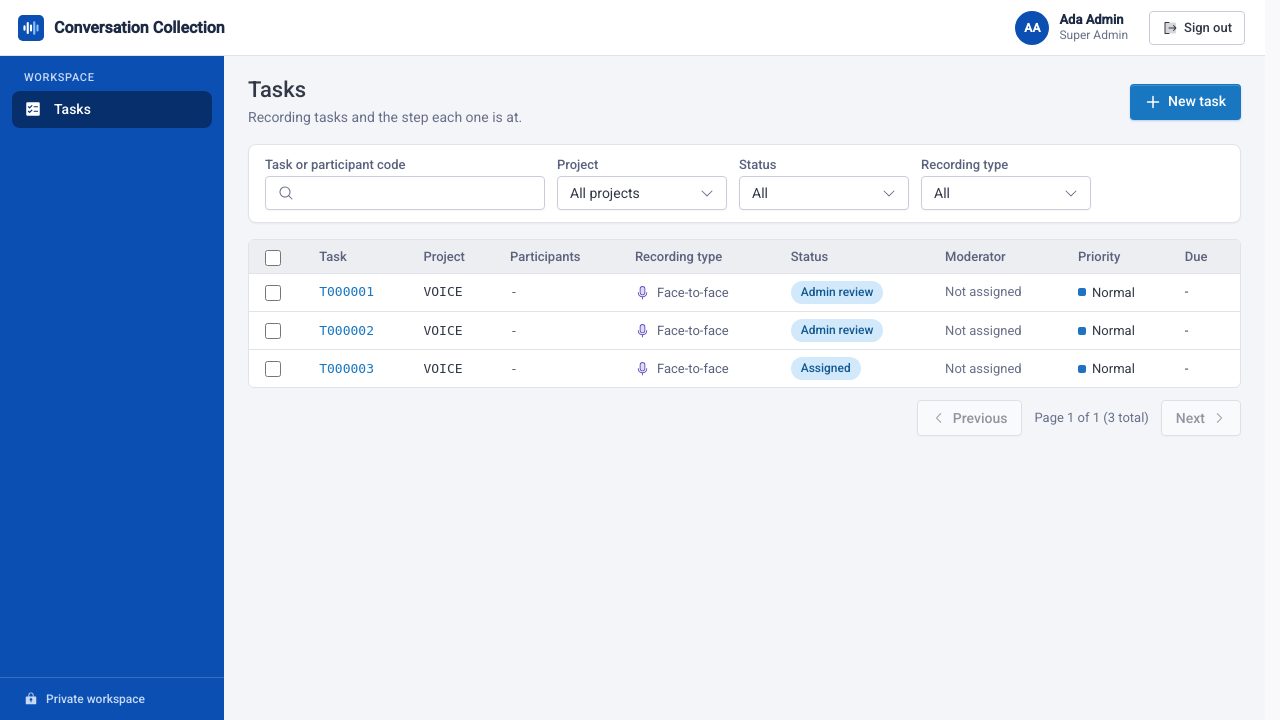
Test case: tasks › approves many tasks at once (D-093)
The width and height of the screenshot is (1280, 720).
Click the checkbox named "Select every task on this page". click: (273, 258)
box: [265,250,281,266]
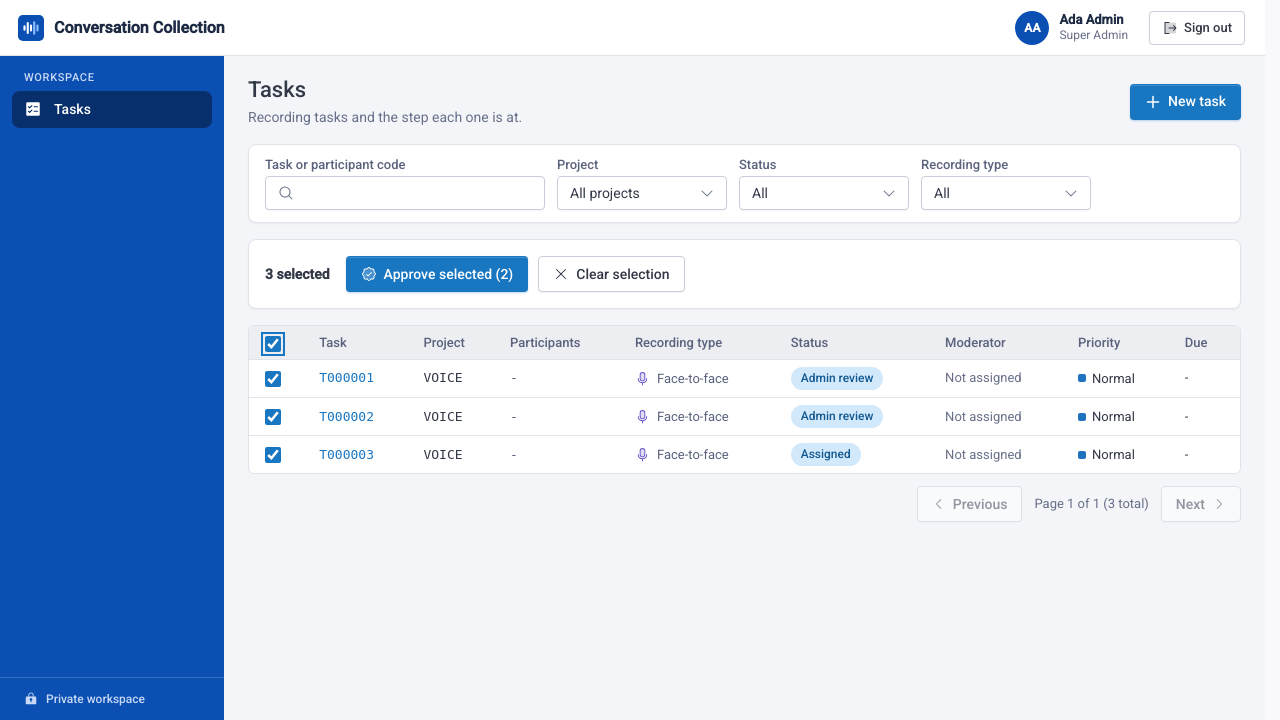
Check: the text "3 selected" is shown, box [265,264,330,285]
Click the button "Approve selected (2)". click: (437, 274)
box: [346,256,528,292]
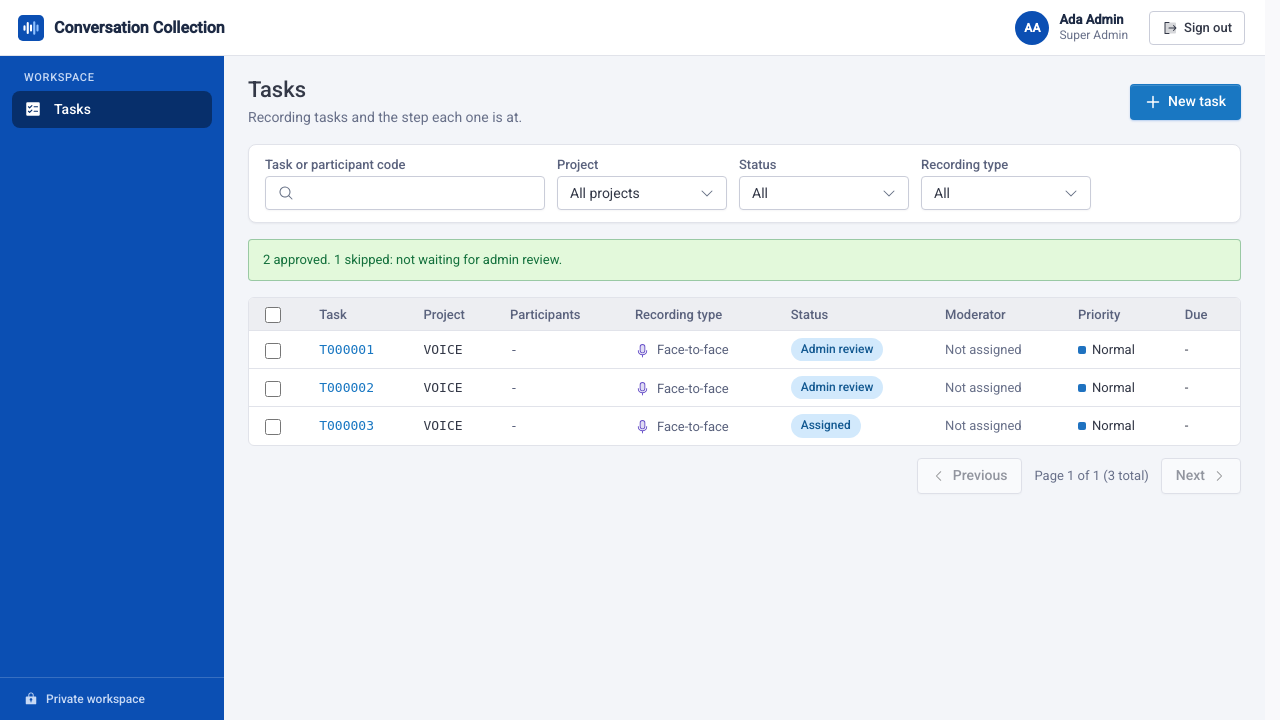
Check: the text "2 approved. 1 skipped: not waiting for admin review." is shown, box [248,239,1241,281]
